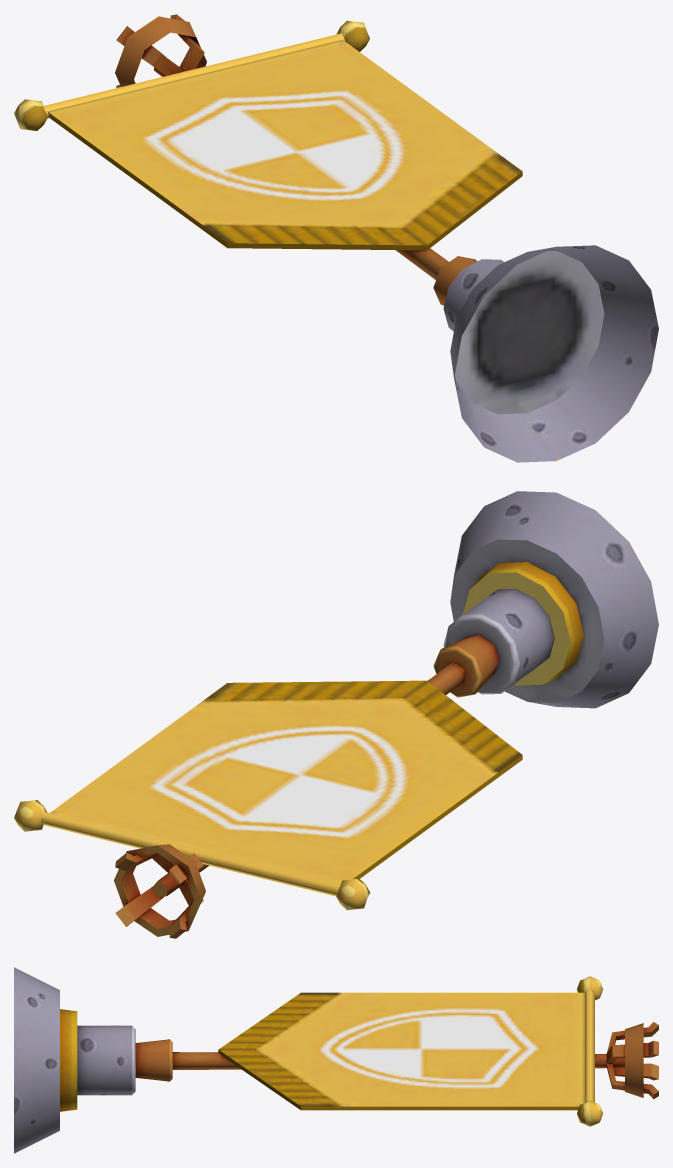
Rendered from TorchBannerCrest.fbx.
3 views of the same model, one above another, from view 1: azimuth 30°, elevation 25°; view 2: azimuth 150°, elevation 25°; view 3: azimuth 270°, elevation 25° (orthographic). The views are drawn at different scales.
Parts seen in each view (by area): view 1: TorchBannerCrest; view 2: TorchBannerCrest; view 3: TorchBannerCrest.
Part boxes in pixels (x1,y1,x2,y2): TorchBannerCrest: (14,14,658,462); TorchBannerCrest: (14,491,658,938); TorchBannerCrest: (14,967,658,1153).
Bounding box in the file's own units: 127 × 74.13 × 256.
